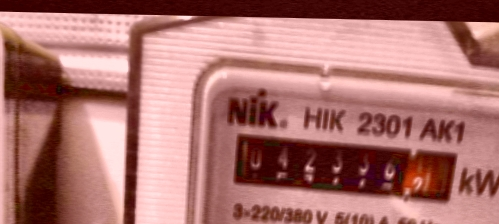0: (247, 139, 261, 169)
2: (299, 143, 318, 170)
3: (326, 143, 343, 172), (355, 145, 370, 173)
4: (273, 141, 290, 168)
6: (380, 151, 396, 179)
screen: (222, 122, 463, 208)
